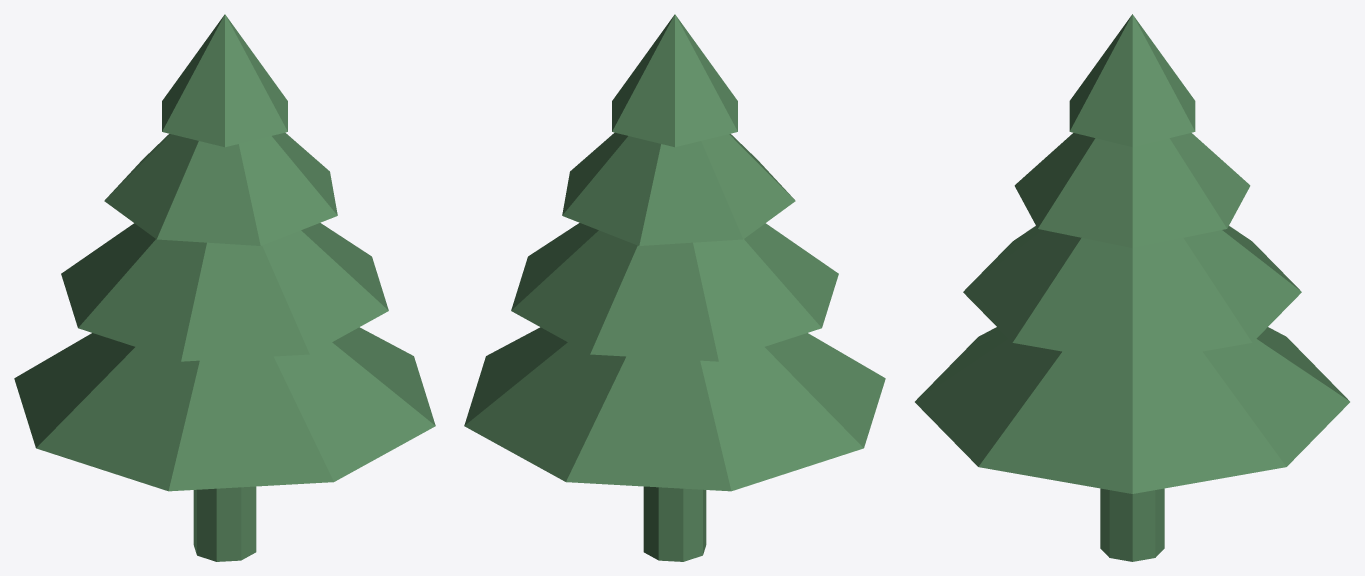
Rendered from PineTree.glb.
3 views of the same model, side by side, from view 1: azimuth 30°, elevation 25°; view 2: azimuth 150°, elevation 25°; view 3: azimuth 270°, elevation 25° (orthographic).
Visible parts, largest first — view 1: filler_PineTree; view 2: filler_PineTree; view 3: filler_PineTree.
Boxes of the visible parts, x1=… form: filler_PineTree: x1=14, y1=14, x2=435, y2=561; filler_PineTree: x1=464, y1=14, x2=885, y2=561; filler_PineTree: x1=915, y1=14, x2=1349, y2=561.
Size of the model in its own units: 2.7 by 3.65 by 2.7.
